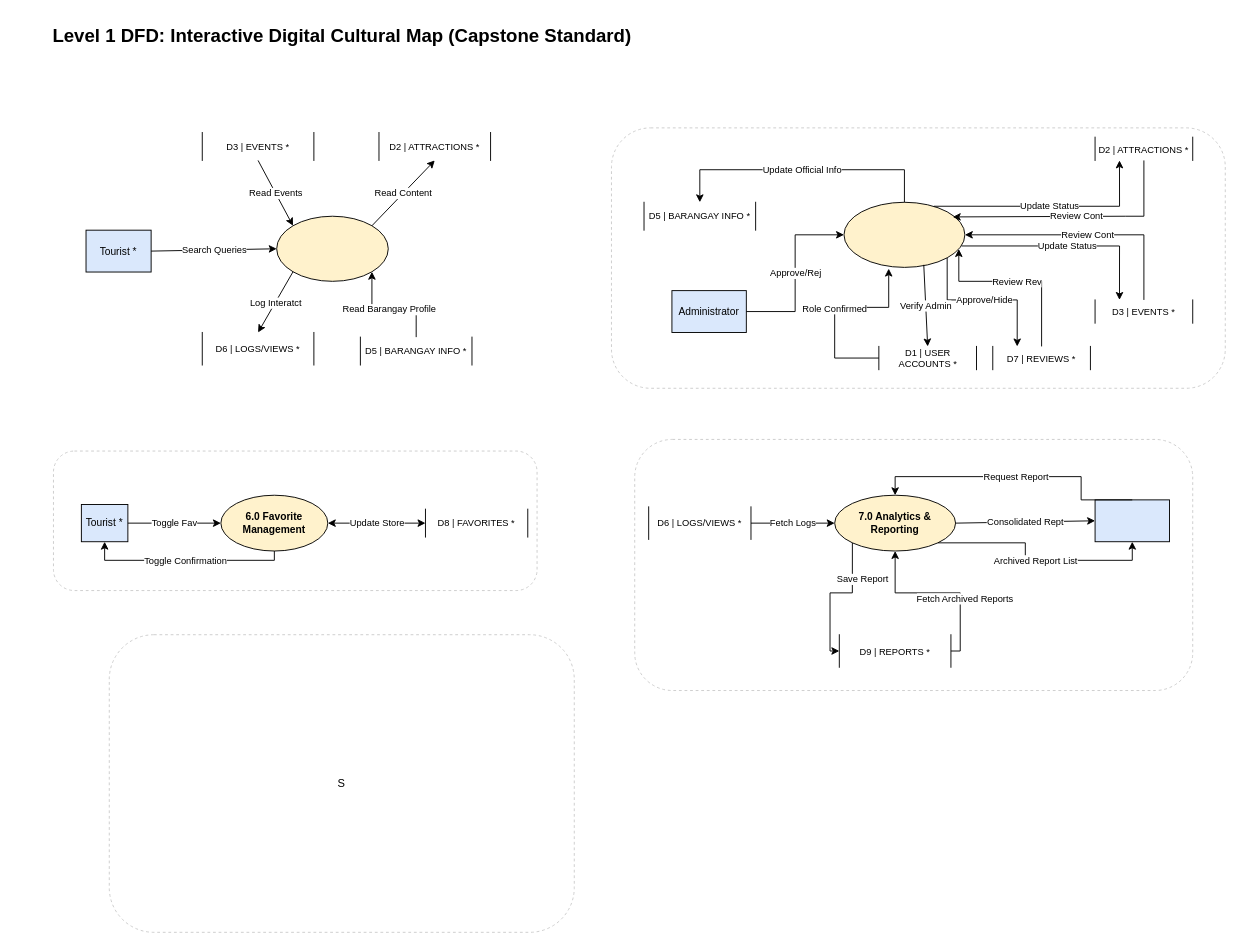
This 1242x949 diagram has some shape labels left out. Each missing label, with the centre of its shape:
"4.0 Content Discovery" belongs at (332,248).
"5.0 Admin Approval" belongs at (904,234).
"Administrator *" belongs at (1131,520).
